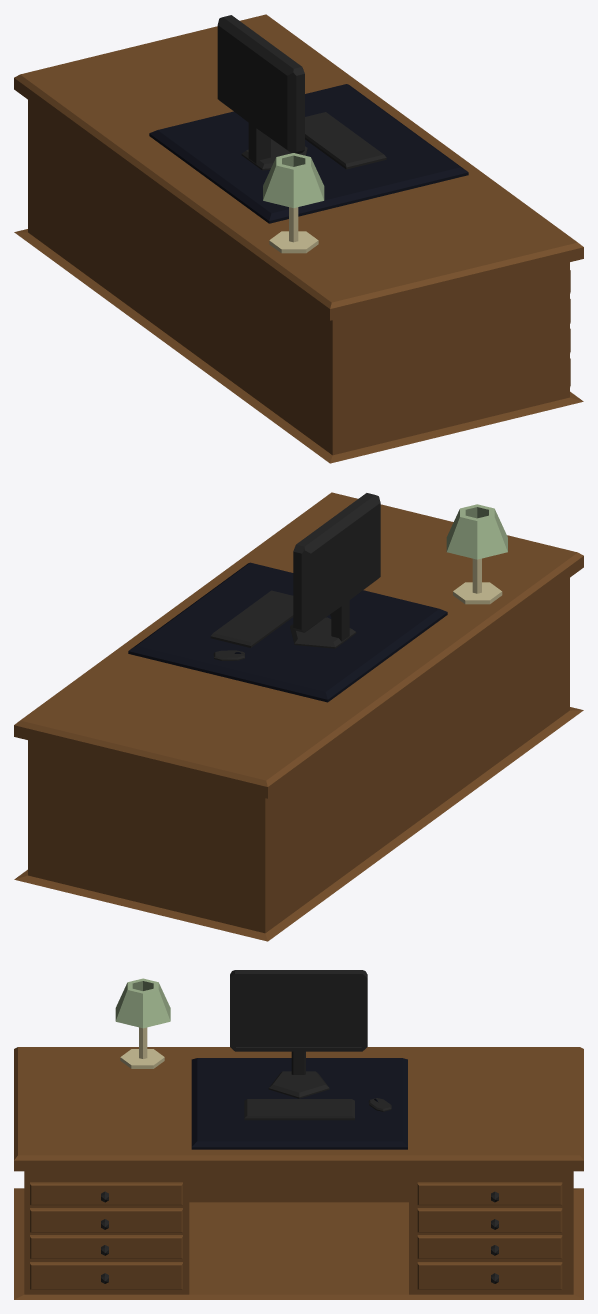
The model's file is geo_baronDesk_02.fbx.
3 renders of one model, top to bottom at view 1: azimuth 30°, elevation 25°; view 2: azimuth 150°, elevation 25°; view 3: azimuth 270°, elevation 25°, orthographic. The views are drawn at different scales.
Parts seen in each view (by area): view 1: geo_desk_01, geo_DeskMatt_01, geo_Computer_01, geo_lampShade_02, geo_keyboard_01, geo_lampbase_02; view 2: geo_desk_01, geo_DeskMatt_01, geo_Computer_01, geo_lampShade_02, geo_keyboard_01, geo_ComputerStand_01, geo_lampbase_02; view 3: geo_desk_01, geo_DeskMatt_01, geo_Computer_01, geo_keyboard_01, geo_lampShade_02, geo_ComputerStand_01, geo_lampbase_02.
Part boxes in pixels (bbox=[...]): geo_desk_01: bbox=[14, 14, 583, 463]; geo_DeskMatt_01: bbox=[149, 84, 468, 223]; geo_Computer_01: bbox=[217, 15, 304, 163]; geo_lampShade_02: bbox=[263, 153, 324, 208]; geo_keyboard_01: bbox=[305, 112, 386, 169]; geo_lampbase_02: bbox=[269, 231, 318, 253]; geo_desk_01: bbox=[14, 492, 583, 941]; geo_DeskMatt_01: bbox=[128, 562, 447, 702]; geo_Computer_01: bbox=[293, 493, 380, 641]; geo_lampShade_02: bbox=[446, 504, 507, 559]; geo_keyboard_01: bbox=[210, 590, 293, 647]; geo_ComputerStand_01: bbox=[290, 617, 356, 648]; geo_lampbase_02: bbox=[453, 582, 502, 604]; geo_desk_01: bbox=[14, 1047, 583, 1299]; geo_DeskMatt_01: bbox=[191, 1058, 407, 1149]; geo_Computer_01: bbox=[230, 970, 367, 1074]; geo_keyboard_01: bbox=[244, 1099, 354, 1120]; geo_lampShade_02: bbox=[115, 978, 170, 1028]; geo_ComputerStand_01: bbox=[268, 1071, 329, 1098]; geo_lampbase_02: bbox=[120, 1049, 164, 1068].
Bounding box in the file's own units: 95.21 × 98.91 × 200.
